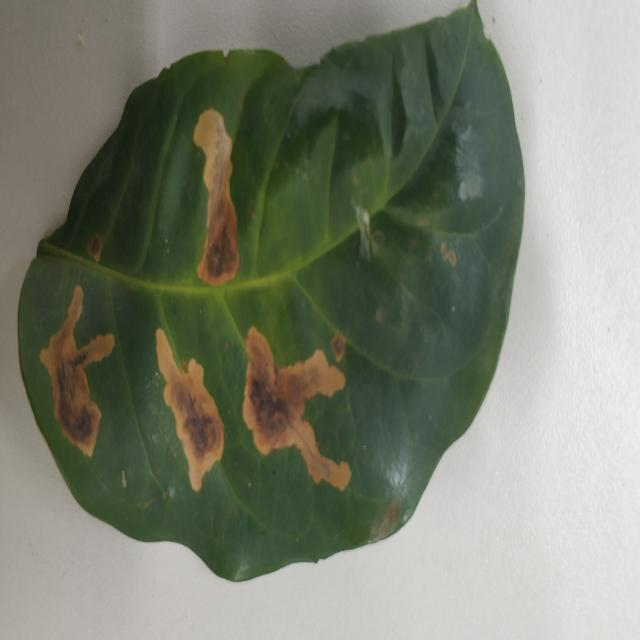Plaga-Minador: (18, 3, 526, 586)
